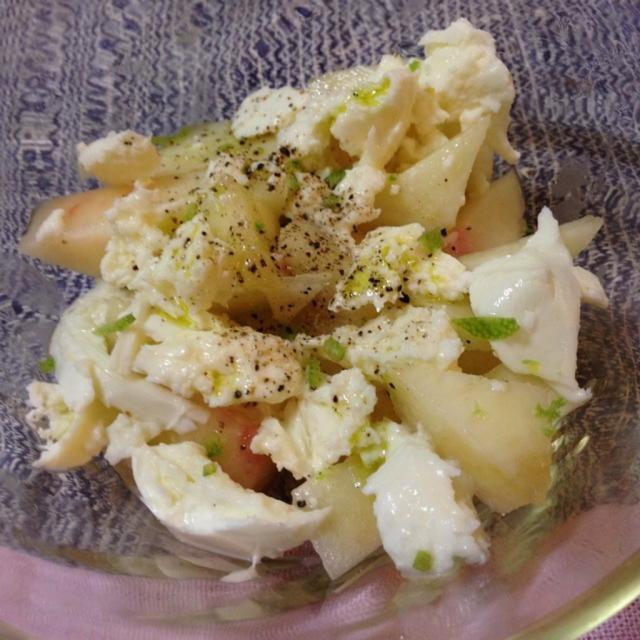Cheese: (7, 9, 551, 479), (457, 201, 628, 408), (366, 349, 552, 517), (127, 437, 335, 567), (356, 415, 497, 587)
